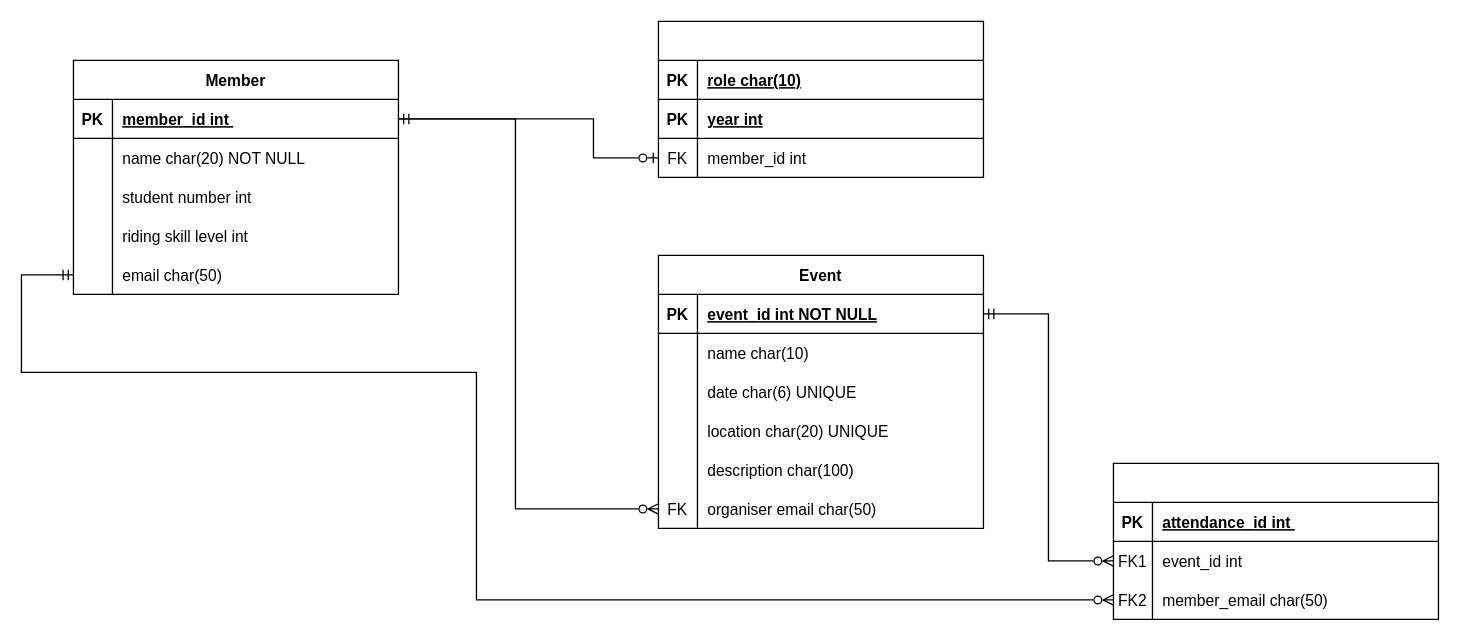
The diagram is 1460 pixels wide and 641 high, and some of its shapes have lost their labels. Each missing label, with the box of its shape:
Attendence: (1112, 462, 1438, 619)
Committee: (657, 20, 983, 177)
